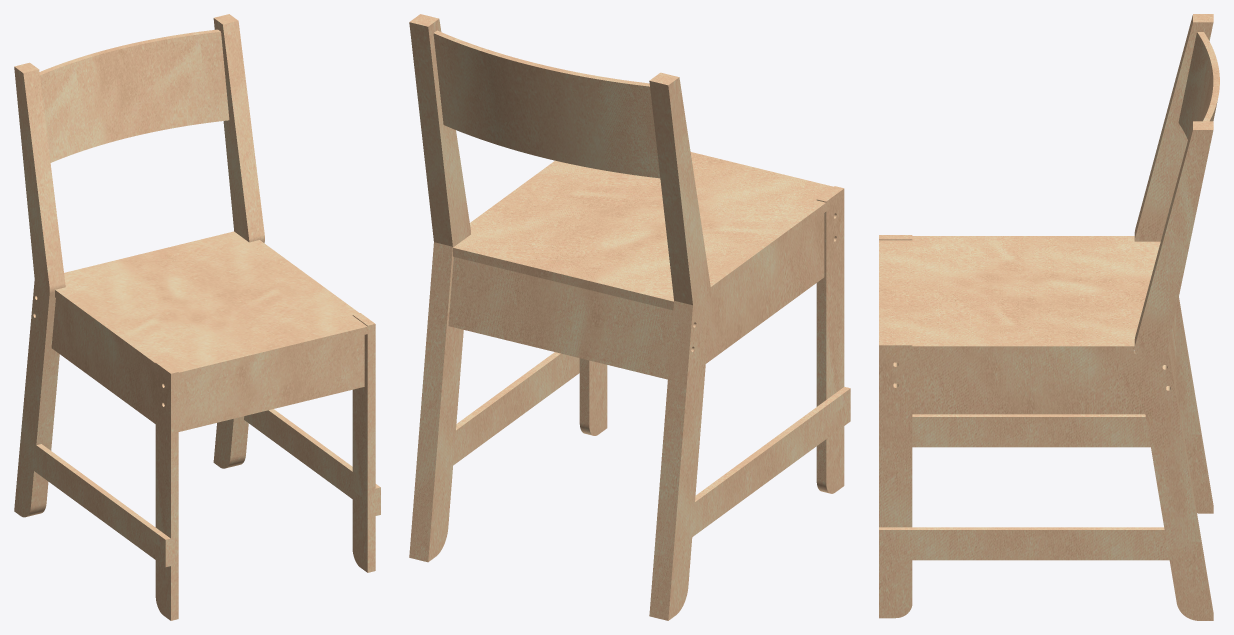
Rendered from NORRAKER_Chair.obj.
3 views of the same model, side by side, from view 1: azimuth 30°, elevation 25°; view 2: azimuth 150°, elevation 25°; view 3: azimuth 270°, elevation 25° (orthographic). The views are drawn at different scales.
Parts seen in each view (by area): view 1: IKEA_NORR_KER__Chaise; view 2: IKEA_NORR_KER__Chaise; view 3: IKEA_NORR_KER__Chaise.
Boxes of the visible parts, box(x1,y1,x2,y2) form: IKEA_NORR_KER__Chaise: box(14, 14, 380, 620); IKEA_NORR_KER__Chaise: box(409, 14, 850, 620); IKEA_NORR_KER__Chaise: box(879, 14, 1219, 620).
Size of the model in its own units: 410 by 810 by 510.
